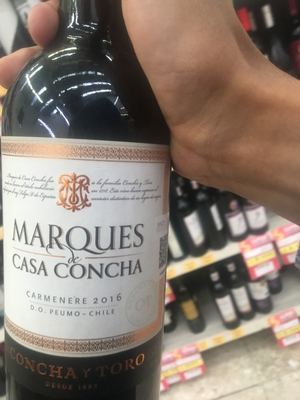marques de casa concha carmenere: (3, 10, 175, 400)
